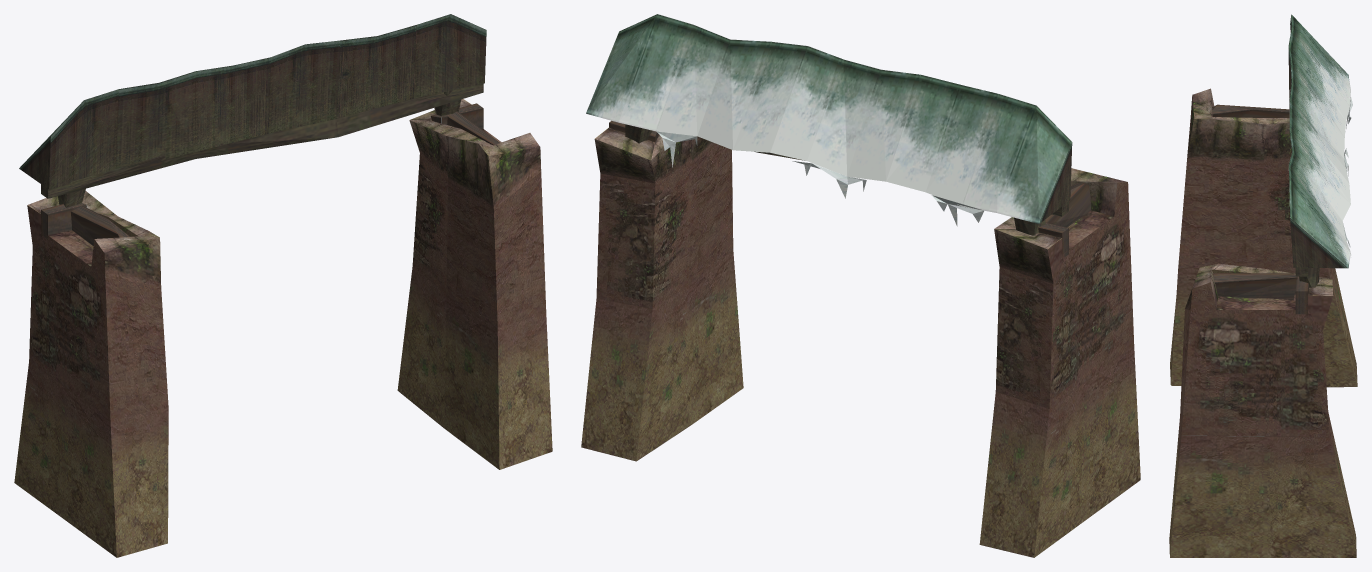
File: C1SMWAVSNH.obj
3 renders of one model, left to right at view 1: azimuth 30°, elevation 25°; view 2: azimuth 150°, elevation 25°; view 3: azimuth 270°, elevation 25°, orthographic. The views are drawn at different scales.
Visible parts, largest first — view 1: Node 0; view 2: Node 0; view 3: Node 0.
Boxes of the visible parts, box(x1,y1,x2,y2) form: Node 0: box(14, 14, 552, 557); Node 0: box(581, 14, 1140, 557); Node 0: box(1169, 14, 1357, 557).
Size of the model in its own units: 15 by 13.44 by 6.16.
4 materials, 4 textured.
